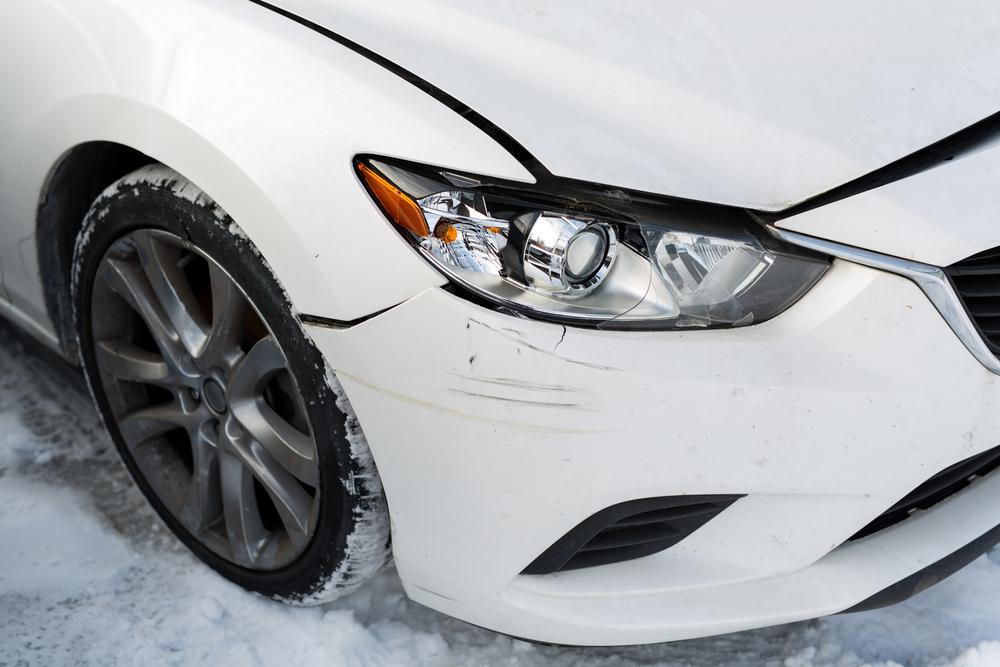crack: (553, 325, 566, 355)
lamp broken: (356, 155, 834, 331)
scratch: (337, 319, 622, 437)
